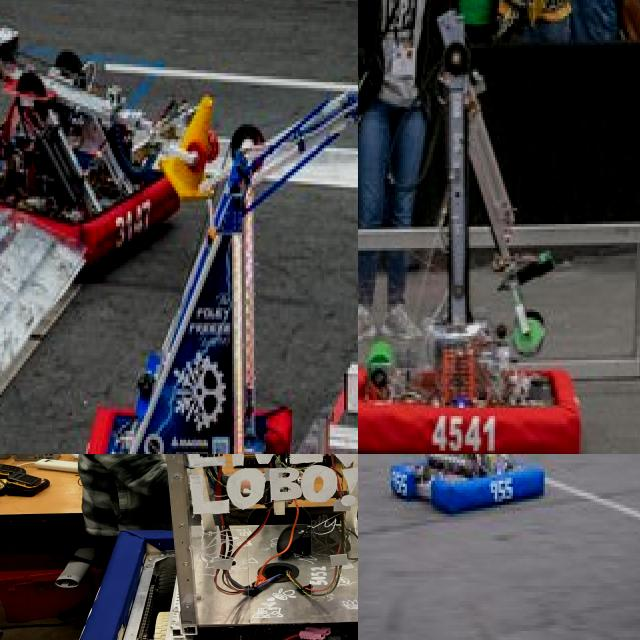FRC-Robots: (358, 0, 640, 454), (38, 50, 332, 454), (19, 454, 358, 640), (0, 32, 230, 258), (377, 454, 551, 520)
